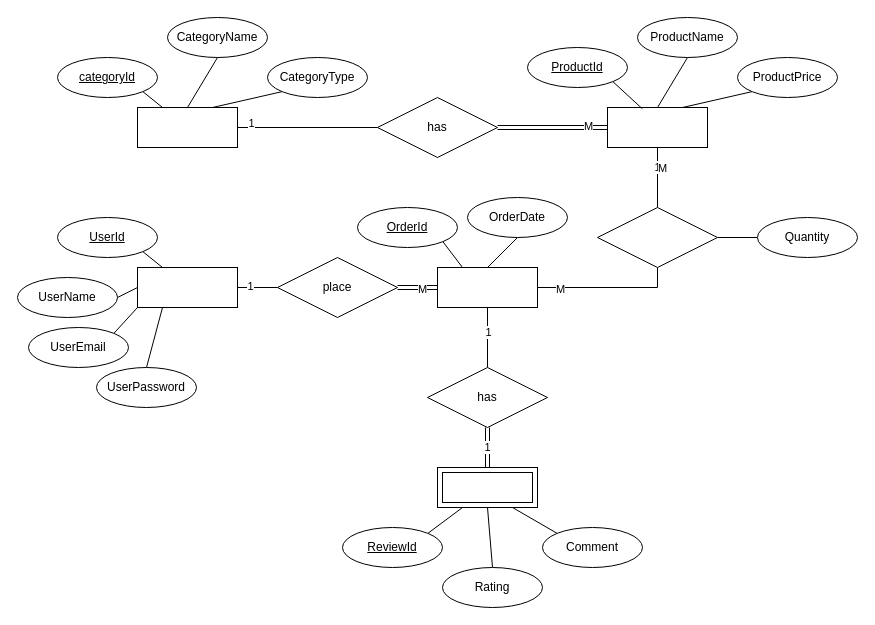
Image size: 875x625. Some labels were removed from this diagram. The shapes that lost their labels are listed below. From the top down, each one's centre as x and y in pixels, then its label:
(187,127): Category
(657,127): Product
(657,237): contains
(187,287): User
(487,287): Order
(487,487): Review
